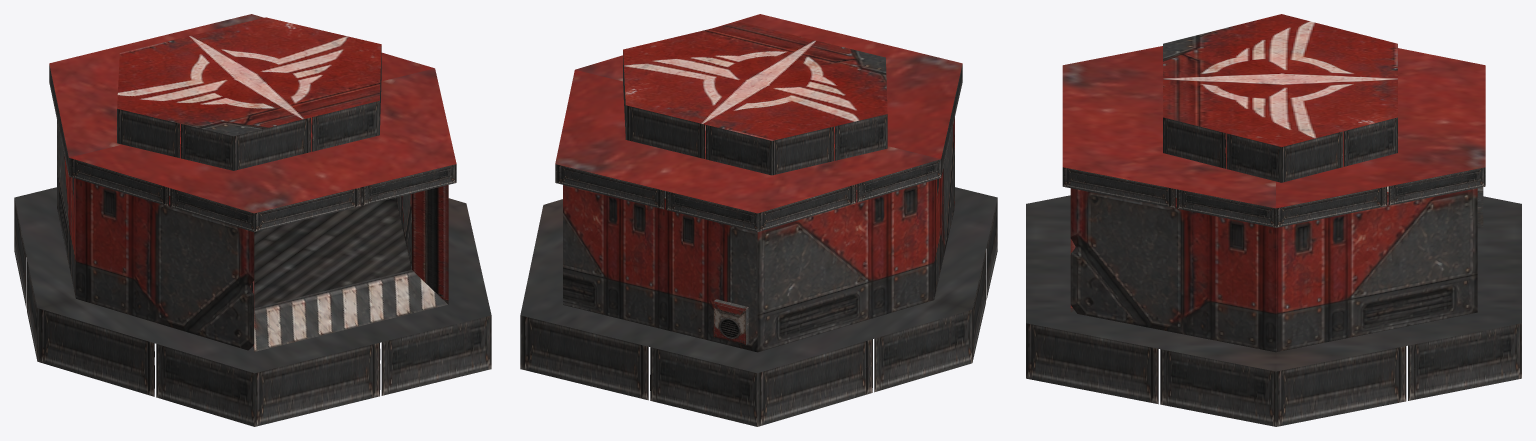
Rendered from garage.dae.
3 views of the same model, side by side, from view 1: azimuth 30°, elevation 25°; view 2: azimuth 150°, elevation 25°; view 3: azimuth 270°, elevation 25° (orthographic). The views are drawn at different scales.
Visible parts, largest first — view 1: garage; view 2: garage; view 3: garage.
Boxes of the visible parts, x1,y1,x2,y2 form: garage: (14, 14, 491, 426); garage: (520, 14, 997, 426); garage: (1026, 14, 1521, 426).
Bounding box in the file's own units: 25.64 × 24.86 × 13.19.
